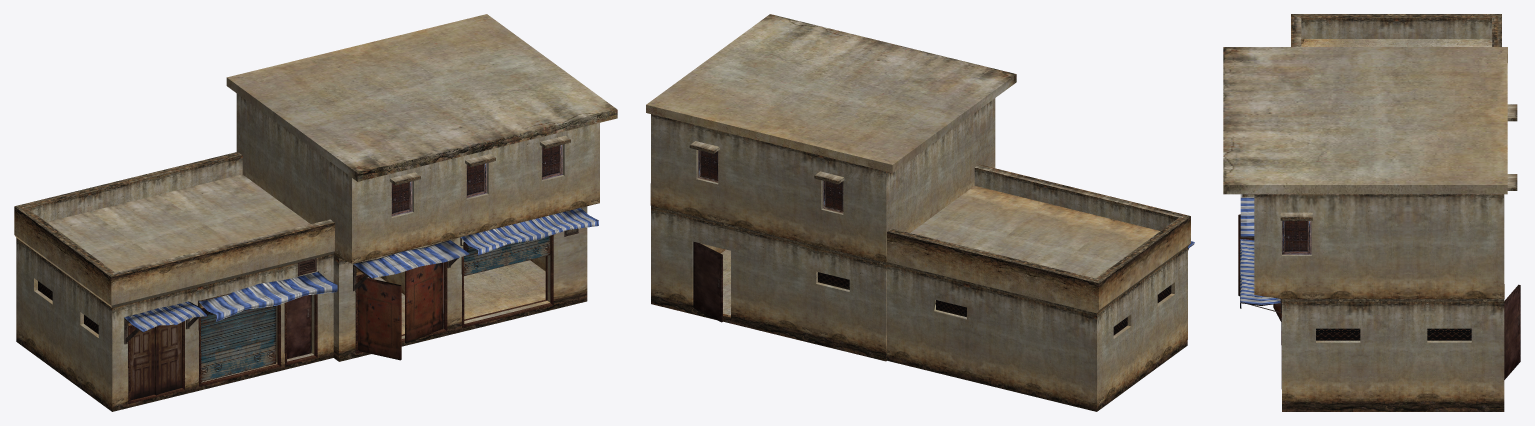
Rendered from BuildingD.fbx.
The picture shows the model from 3 angles, left to right: view 1: azimuth 30°, elevation 25°; view 2: azimuth 150°, elevation 25°; view 3: azimuth 270°, elevation 25°; orthographic projection. The views are drawn at different scales.
Parts seen in each view (by area): view 1: BuildingD; view 2: BuildingD; view 3: BuildingD.
Boxes of the visible parts, x1=… form: BuildingD: x1=14, y1=14, x2=617, y2=411; BuildingD: x1=646, y1=14, x2=1194, y2=411; BuildingD: x1=1223, y1=14, x2=1520, y2=411.
Size of the model in its own units: 1655 by 692 by 815.
